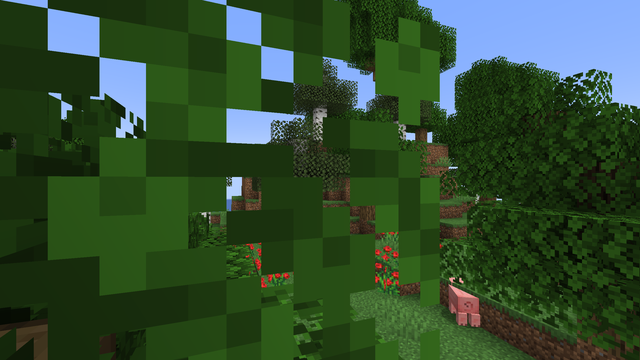cochons: (442, 285, 475, 326)
